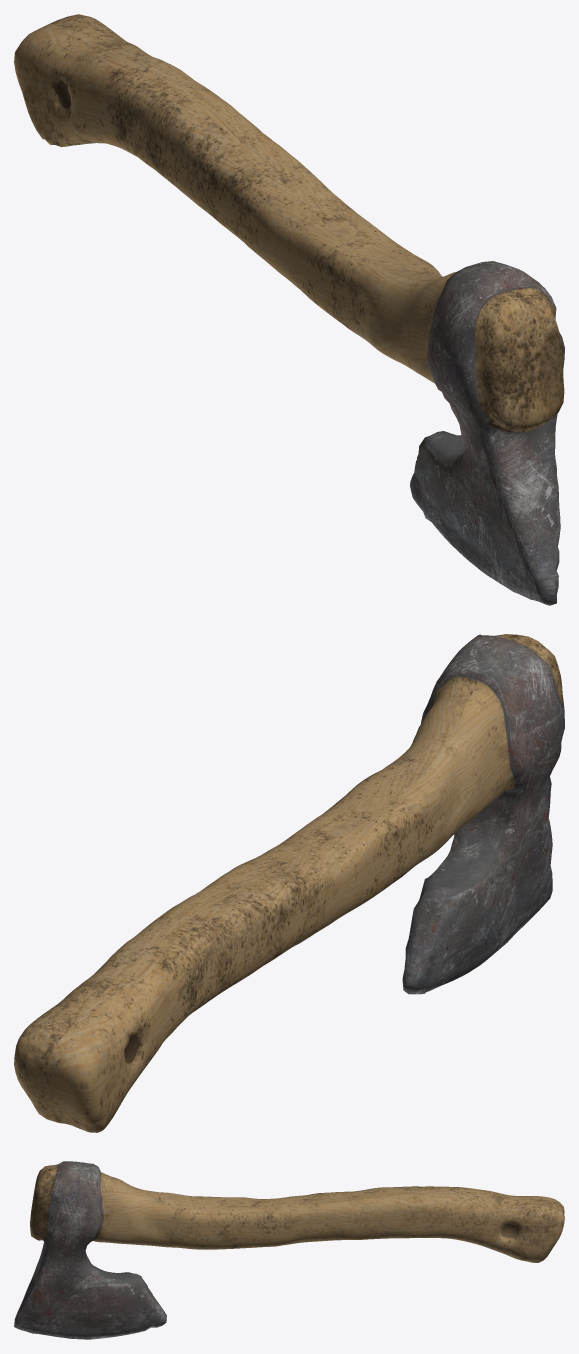
Rendered from free_axe_textured_game_ready.glb.
The picture shows the model from 3 angles, top to bottom: view 1: azimuth 30°, elevation 25°; view 2: azimuth 150°, elevation 25°; view 3: azimuth 270°, elevation 25°; orthographic projection. The views are drawn at different scales.
Visible parts, largest first — view 1: hache_low; view 2: hache_low; view 3: hache_low.
Boxes of the visible parts, x1,y1,x2,y2 form: hache_low: (14,14,564,605); hache_low: (14,634,564,1132); hache_low: (14,1161,564,1339).
Bounding box in the file's own units: 0.1247 × 0.3522 × 1.01.
Materials: 1 (1 with a texture image).
